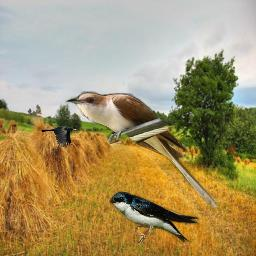Crow: (41, 126, 77, 147)
Cuckoo: (65, 91, 221, 210)
Swallow: (109, 191, 202, 246)
